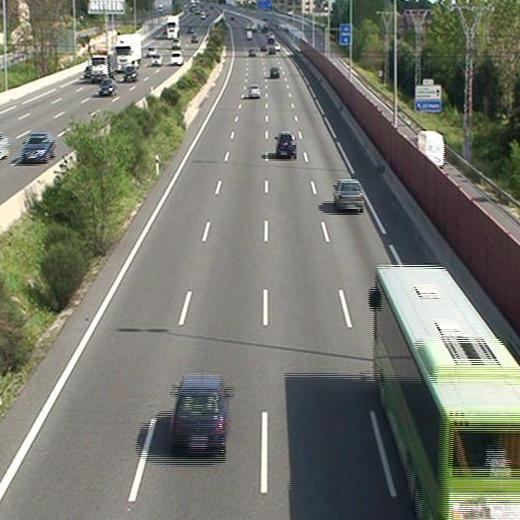bus: (369, 263, 520, 520)
car: (169, 375, 231, 452), (332, 179, 363, 211), (275, 133, 296, 158), (248, 85, 260, 98), (268, 67, 280, 77)
